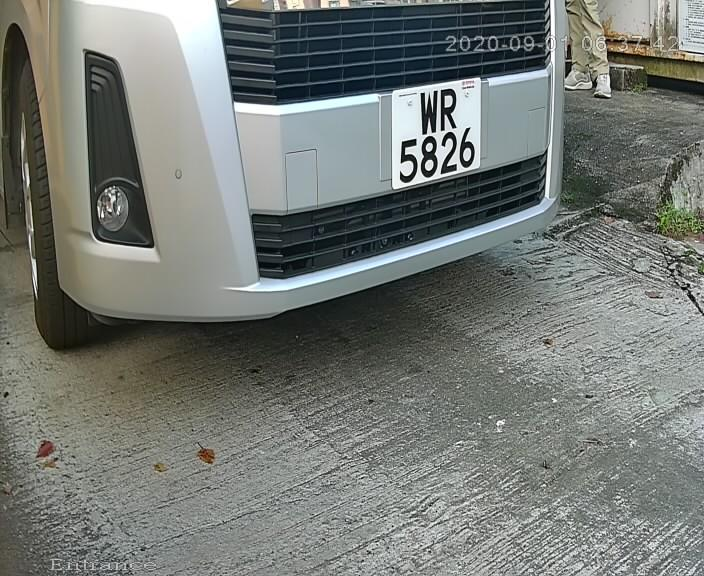License Plate: (381, 70, 497, 209)
